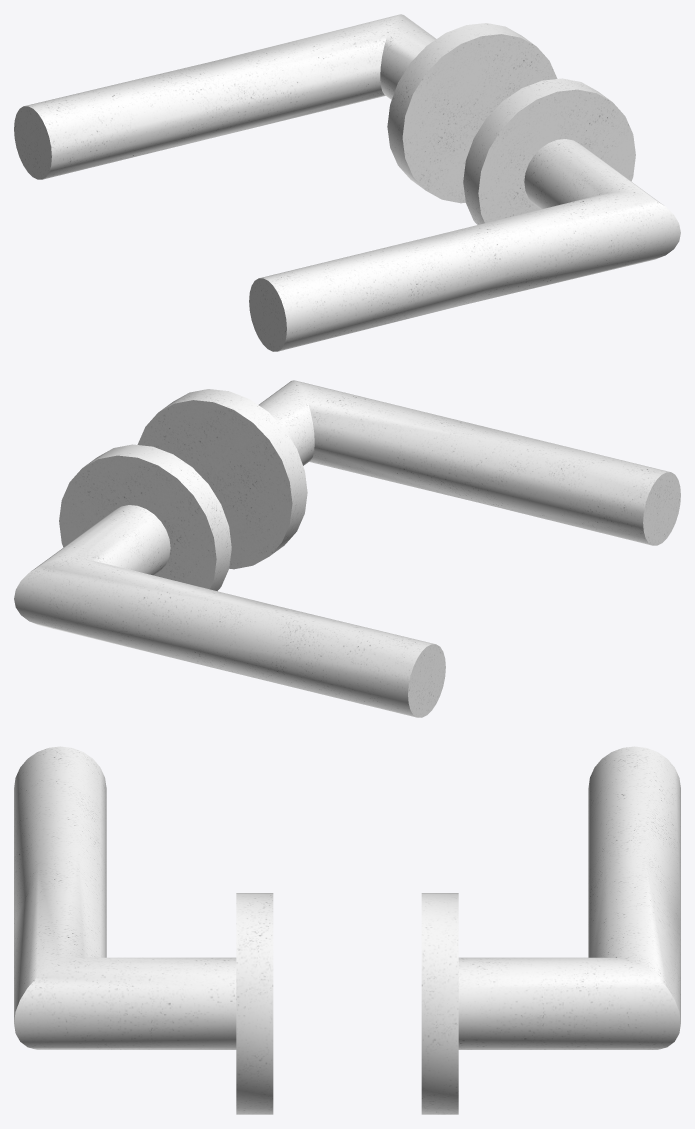
The picture shows the model from 3 angles, top to bottom: view 1: azimuth 30°, elevation 25°; view 2: azimuth 150°, elevation 25°; view 3: azimuth 270°, elevation 25°; orthographic projection. The views are drawn at different scales.
Size of the model in its own units: 0.1675 by 0.06 by 0.18.
Materials: 1 (1 with a texture image).
